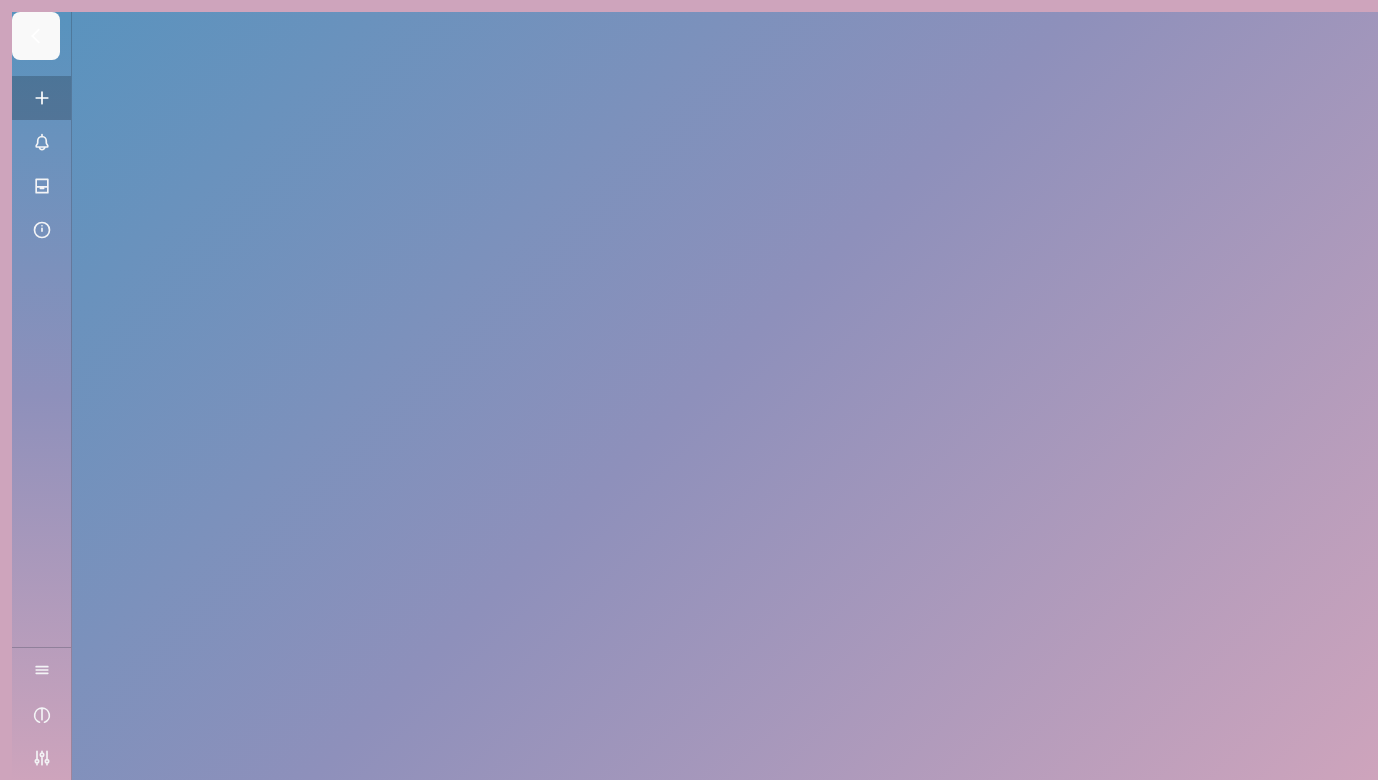
SideNav › shows error state when conversations fail to load
Note: Click expand button to show conversations
Click the button named "expand" at (36, 36), box [12,12,60,60]
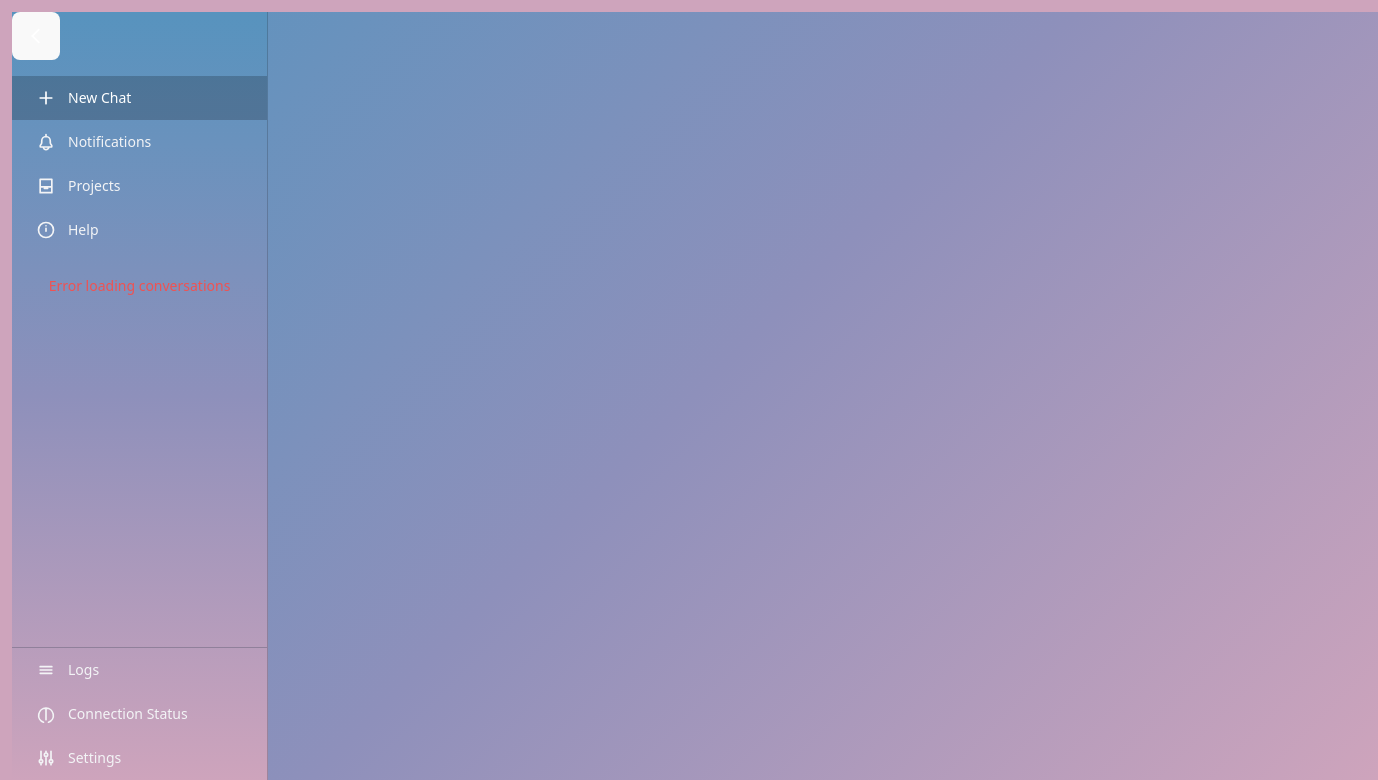
Expected: the text "Error loading conversations" is shown, [49,276,230,295]
